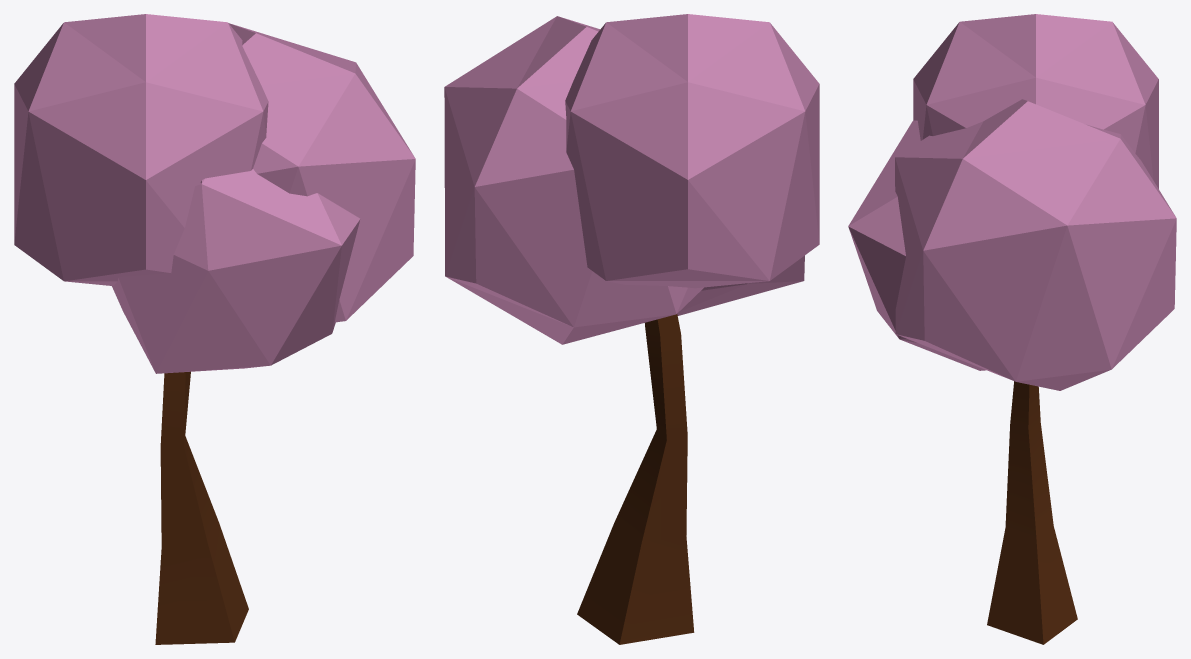
File: Tree_.FBX
3 renders of one model, left to right at view 1: azimuth 30°, elevation 25°; view 2: azimuth 150°, elevation 25°; view 3: azimuth 270°, elevation 25°, orthographic. The views are drawn at different scales.
Parts seen in each view (by area): view 1: GeoSphere003, Box003; view 2: GeoSphere003, Box003; view 3: GeoSphere003, Box003.
Part boxes in pixels (x1,y1,x2,y2): GeoSphere003: [14, 14, 415, 373]; Box003: [155, 371, 248, 644]; GeoSphere003: [444, 14, 819, 344]; Box003: [577, 314, 694, 644]; GeoSphere003: [848, 14, 1176, 390]; Box003: [987, 381, 1077, 644].
Size of the model in its own units: 63 by 109 by 55.41.
